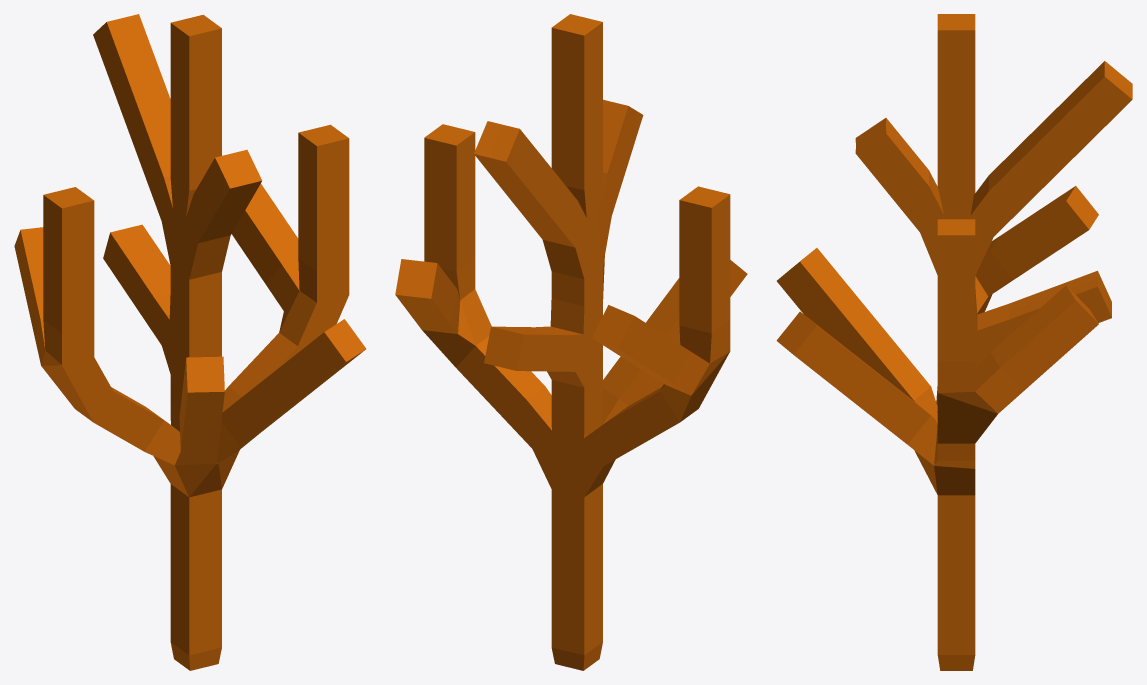
The model's file is Tree.fbx.
The picture shows the model from 3 angles, left to right: view 1: azimuth 30°, elevation 25°; view 2: azimuth 150°, elevation 25°; view 3: azimuth 270°, elevation 25°; orthographic projection.
Visible parts, largest first — view 1: Cube.001; view 2: Cube.001; view 3: Cube.001.
Part boxes in pixels (x1,y1,x2,y2): Cube.001: [14, 14, 366, 670]; Cube.001: [395, 14, 747, 670]; Cube.001: [776, 14, 1132, 670].
Bounding box in the file's own units: 445 × 941 × 473.
